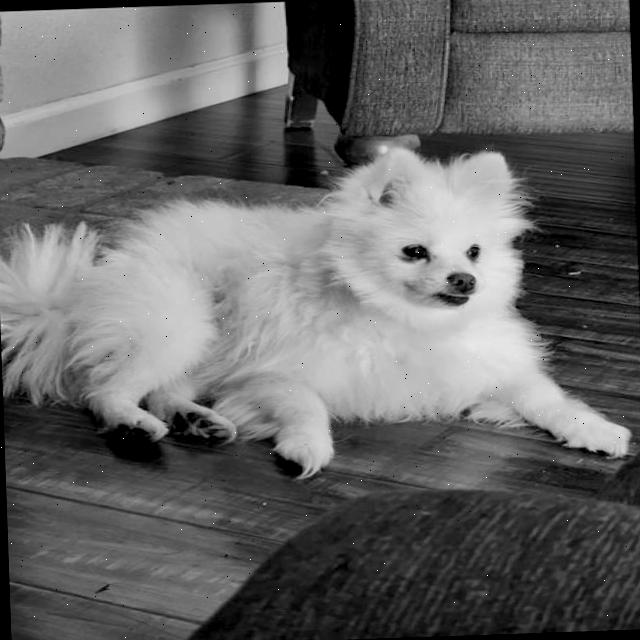pomeranian_dog: (292, 134, 554, 347)
